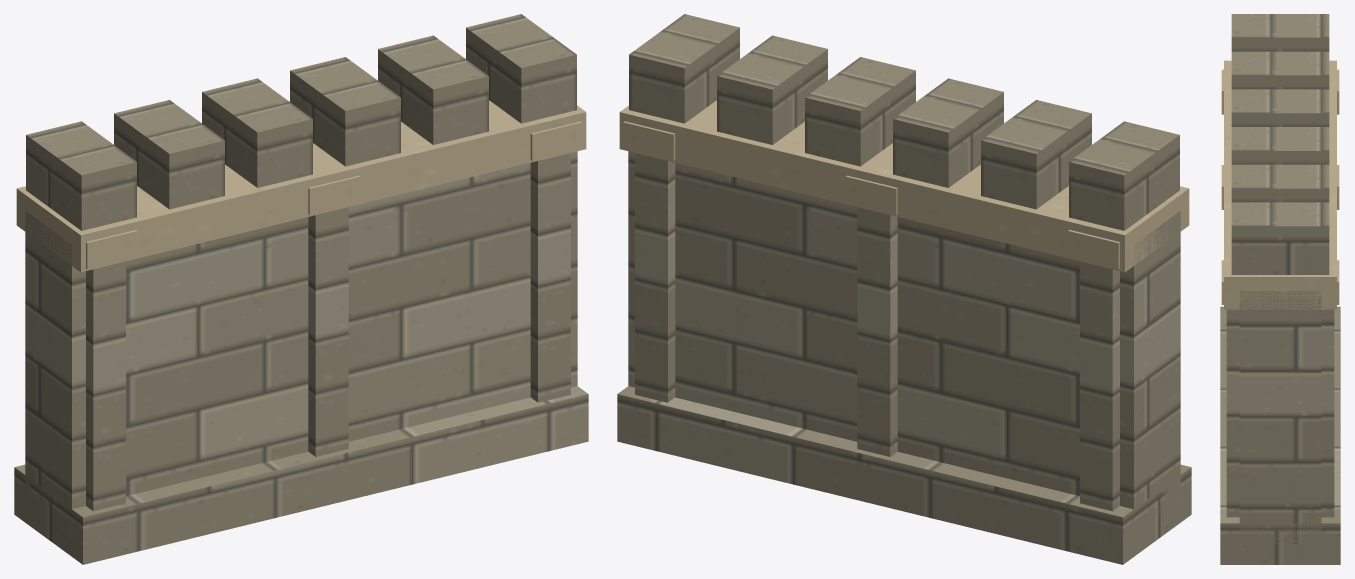
The model's file is wall-straight.glb.
3 views of the same model, side by side, from view 1: azimuth 30°, elevation 25°; view 2: azimuth 150°, elevation 25°; view 3: azimuth 270°, elevation 25° (orthographic). The views are drawn at different scales.
Visible parts, largest first — view 1: Building_Body; view 2: Building_Body; view 3: Building_Body.
Part boxes in pixels (<box>): Building_Body: <box>14,14,588,564</box>; Building_Body: <box>617,14,1191,564</box>; Building_Body: <box>1220,14,1340,564</box>.
Bounding box in the file's own units: 2 × 1.45 × 0.47.
1 material, 1 textured.
